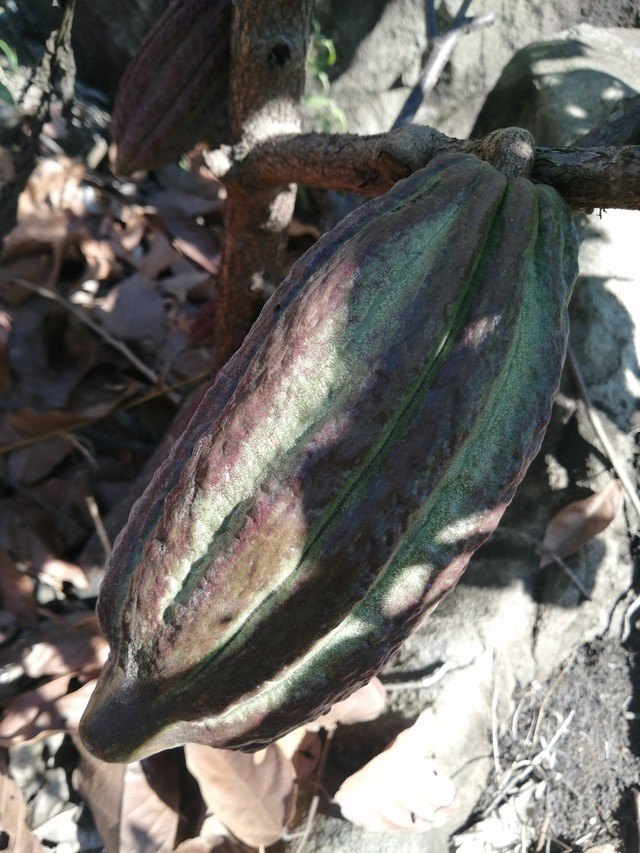Health: (61, 132, 602, 774)
